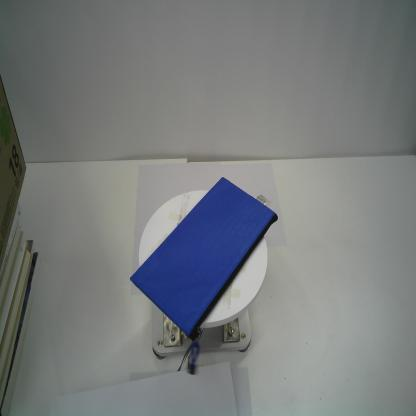Stationery: (130, 175, 280, 377)
